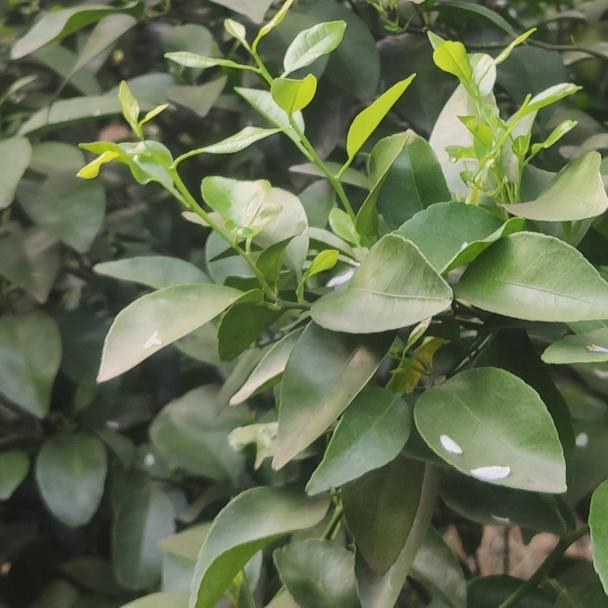shoot: (176, 6, 412, 184), (91, 91, 285, 226), (423, 27, 578, 164)
